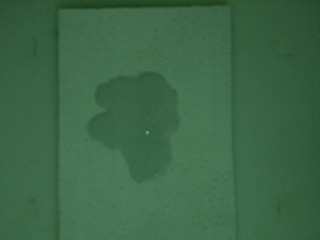Water_detected: (102, 81, 162, 167)
